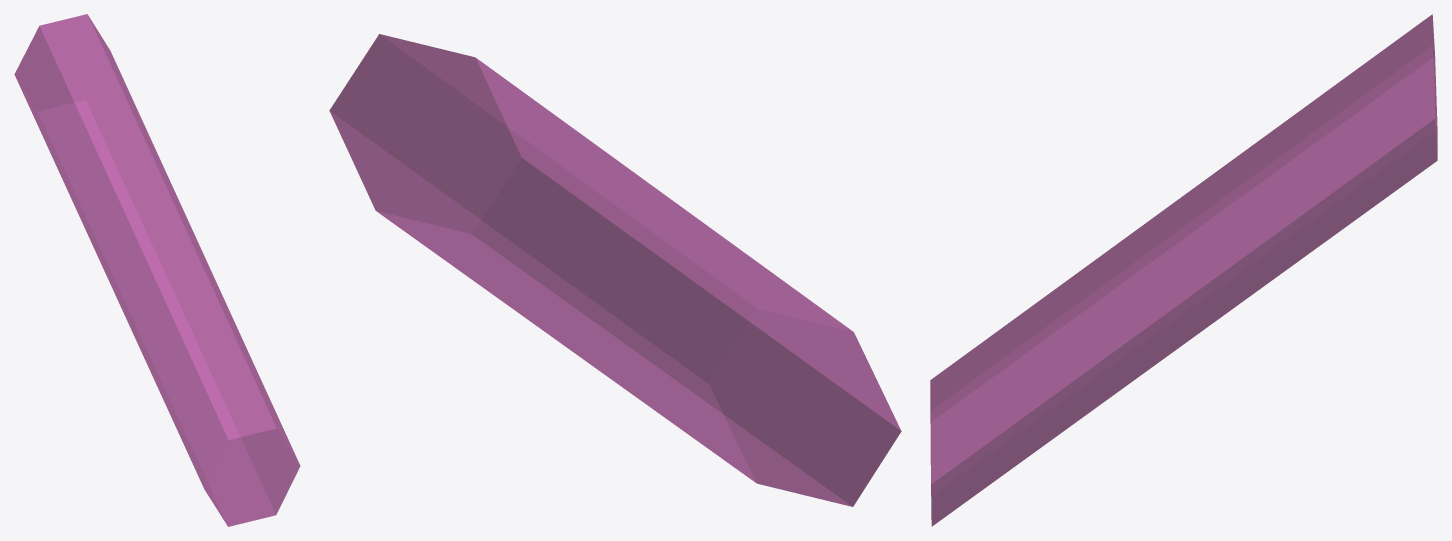
File: SM_Bld_Roof_Trim_End_Half_01_Collision_01.fbx
3 renders of one model, left to right at view 1: azimuth 30°, elevation 25°; view 2: azimuth 150°, elevation 25°; view 3: azimuth 270°, elevation 25°, orthographic. The views are drawn at different scales.
Parts seen in each view (by area): view 1: SM_Bld_Roof_Trim_End_Half_01_Collision_01; view 2: SM_Bld_Roof_Trim_End_Half_01_Collision_01; view 3: SM_Bld_Roof_Trim_End_Half_01_Collision_01.
Boxes of the visible parts, x1,y1,x2,y2 form: SM_Bld_Roof_Trim_End_Half_01_Collision_01: (14,14,300,526); SM_Bld_Roof_Trim_End_Half_01_Collision_01: (329,34,901,506); SM_Bld_Roof_Trim_End_Half_01_Collision_01: (930,14,1437,526).
Bounding box in the file's own units: 38.04 × 137 × 131.
